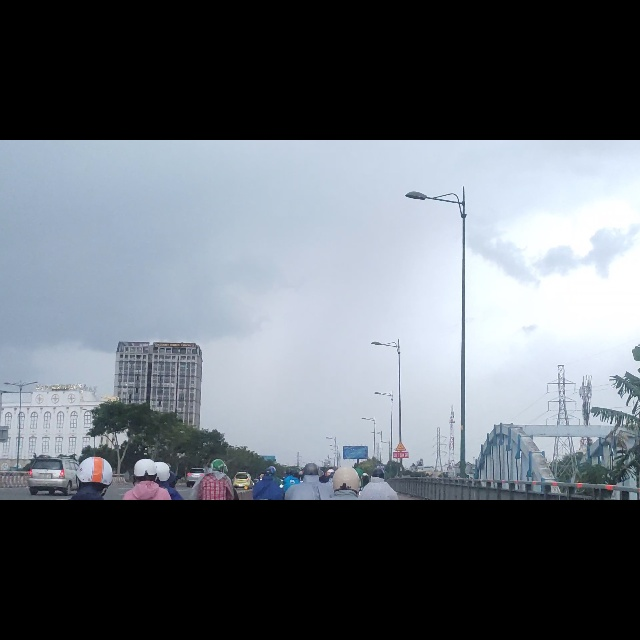bien_chi_dan: (394, 535, 406, 553)
